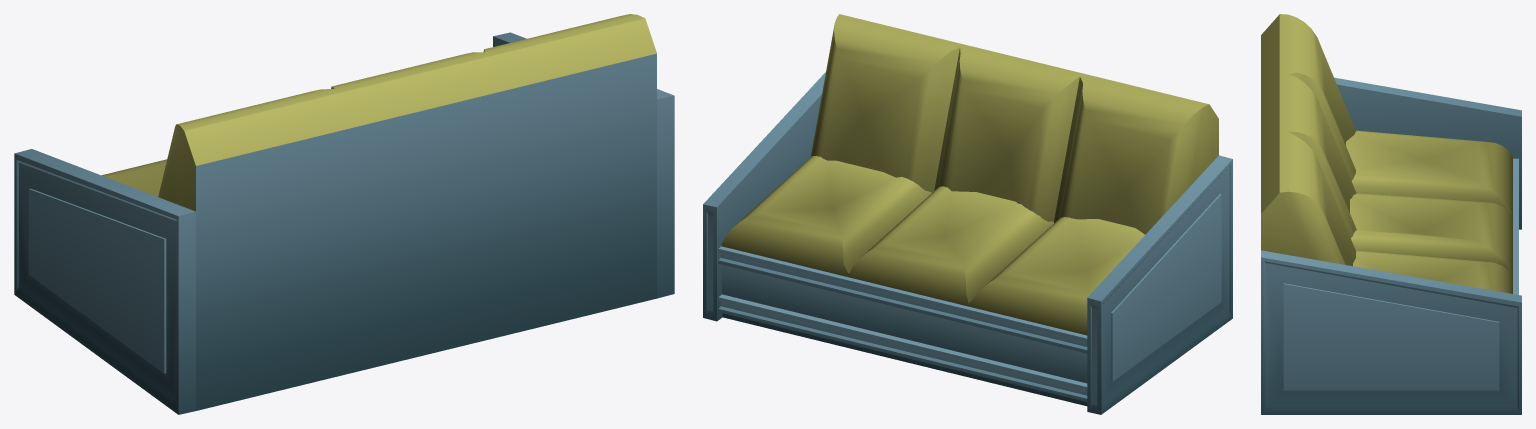
Rendered from Couch.fbx.
3 renders of one model, left to right at view 1: azimuth 30°, elevation 25°; view 2: azimuth 150°, elevation 25°; view 3: azimuth 270°, elevation 25°, orthographic. The views are drawn at different scales.
Parts seen in each view (by area): view 1: Couch; view 2: Couch; view 3: Couch.
Part boxes in pixels (box(x1,y1,x2,y2)): Couch: box(14, 14, 674, 414); Couch: box(703, 14, 1232, 414); Couch: box(1261, 14, 1521, 414).
Bounding box in the file's own units: 1.91 × 1.09 × 1.
